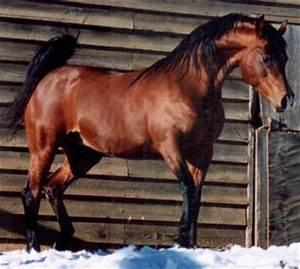horse: (15, 11, 295, 253)
